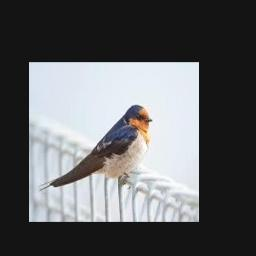Swallow: (38, 105, 153, 191)
